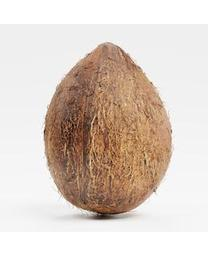coconut: (36, 41, 176, 216)
